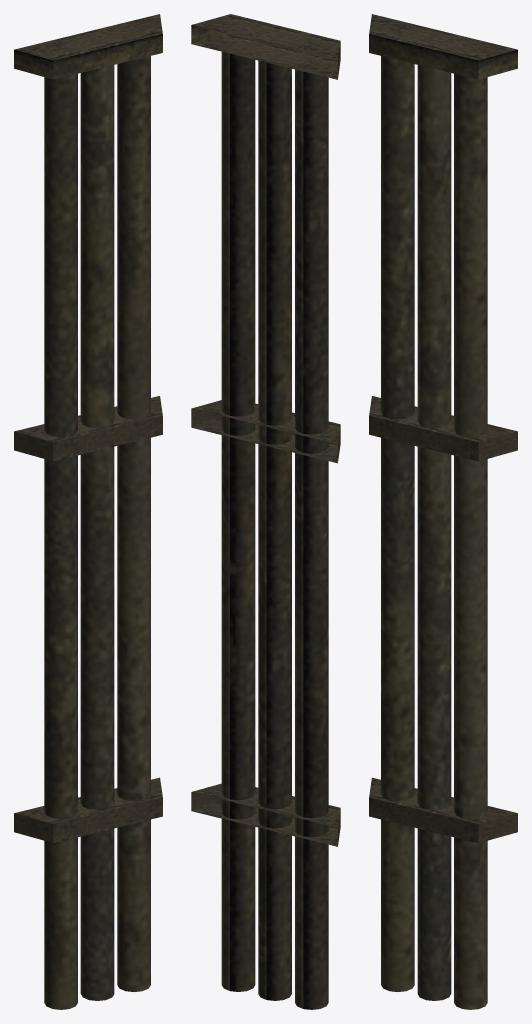
File: pipes_hr_1_vertical_end_1.obj
3 renders of one model, left to right at view 1: azimuth 30°, elevation 25°; view 2: azimuth 150°, elevation 25°; view 3: azimuth 330°, elevation 25°, orthographic.
Visible parts, largest first — view 1: pipes_hr_1_vertical_end_1; view 2: pipes_hr_1_vertical_end_1; view 3: pipes_hr_1_vertical_end_1.
Boxes of the visible parts, x1,y1,x2,y2 form: pipes_hr_1_vertical_end_1: [14, 14, 162, 1009]; pipes_hr_1_vertical_end_1: [191, 14, 340, 1009]; pipes_hr_1_vertical_end_1: [369, 14, 517, 1009].
Bounding box in the file's own units: 0.4 × 2.5 × 0.1.
